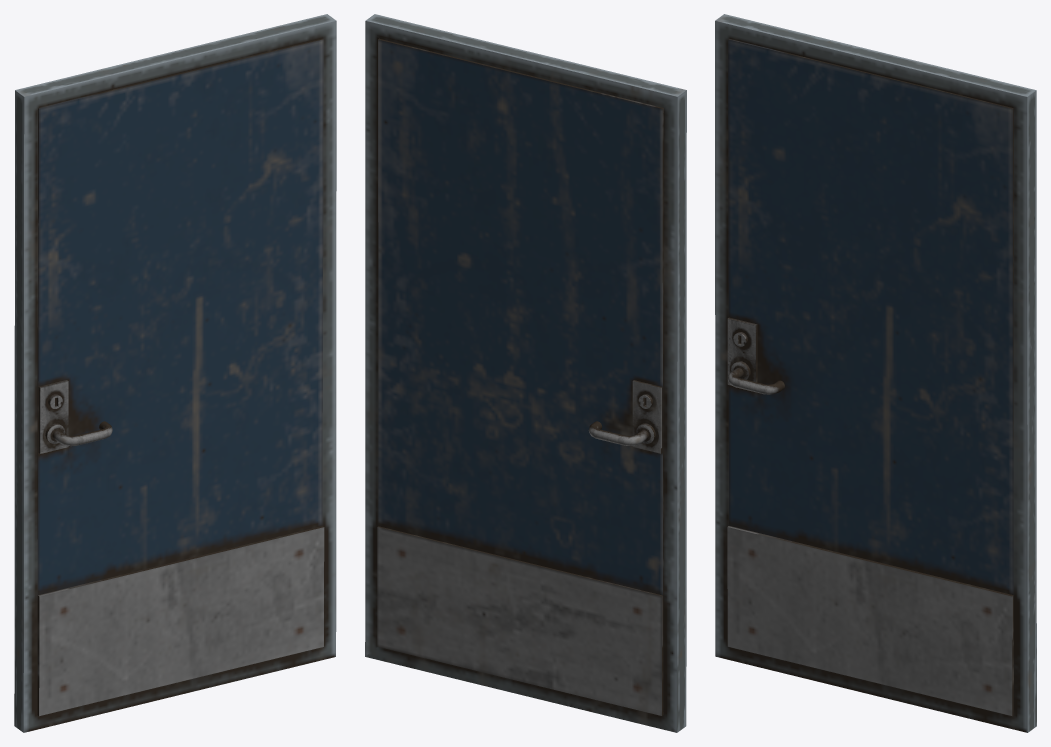
File: Metal Patio Door.fbx
3 views of the same model, side by side, from view 1: azimuth 30°, elevation 25°; view 2: azimuth 150°, elevation 25°; view 3: azimuth 330°, elevation 25° (orthographic).
Visible parts, largest first — view 1: Cube.022; view 2: Cube.022; view 3: Cube.022.
Boxes of the visible parts, <box> form: Cube.022: <box>14,14,336,732</box>; Cube.022: <box>365,14,686,732</box>; Cube.022: <box>715,14,1036,732</box>.
Size of the model in its own units: 106 by 207 by 26.26.
Materials: 1 (1 with a texture image).
